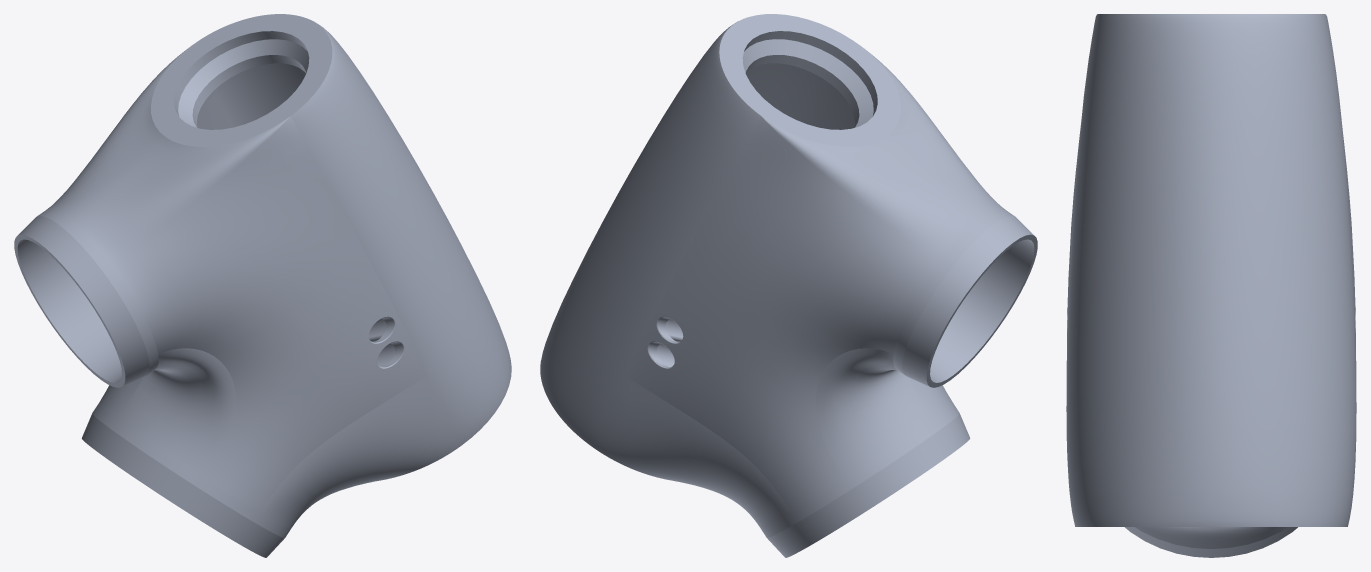
The picture shows the model from 3 angles, left to right: view 1: azimuth 30°, elevation 25°; view 2: azimuth 150°, elevation 25°; view 3: azimuth 270°, elevation 25°; orthographic projection. The views are drawn at different scales.
Visible parts, largest first — view 1: Post Processed - Part; view 2: Post Processed - Part; view 3: Post Processed - Part.
Part boxes in pixels (x1,y1,x2,y2): Post Processed - Part: [14, 14, 511, 557]; Post Processed - Part: [540, 14, 1037, 557]; Post Processed - Part: [1066, 14, 1356, 557].
Size of the model in its own units: 0.1376 by 0.1444 by 0.065.
